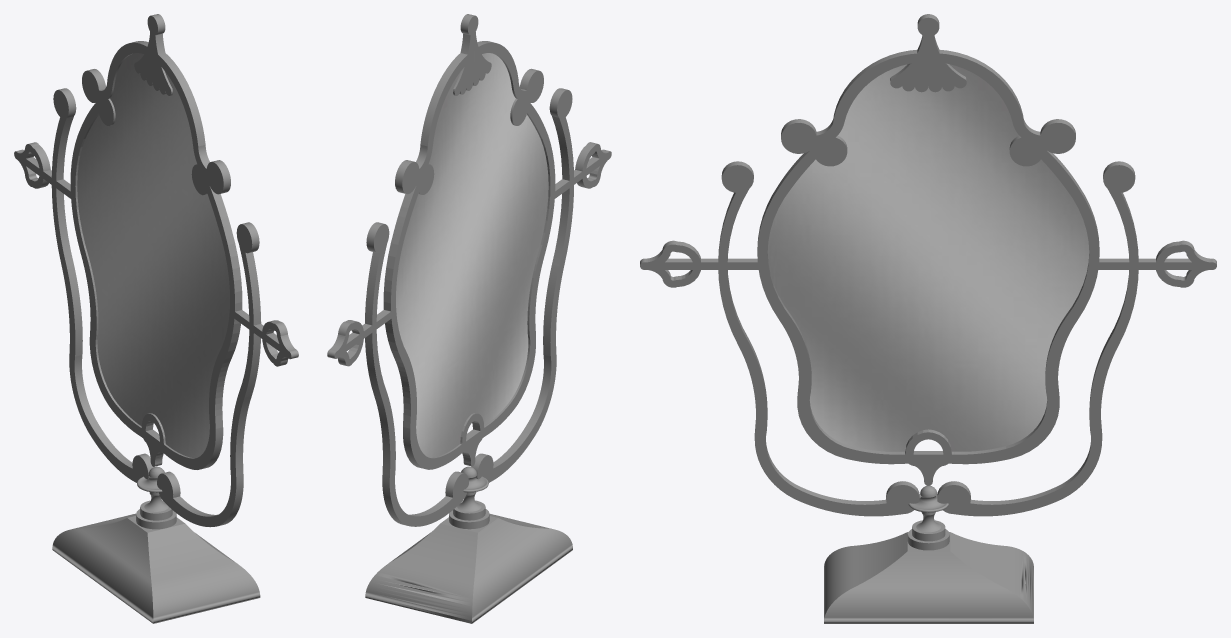
3 renders of one model, left to right at view 1: azimuth 30°, elevation 25°; view 2: azimuth 150°, elevation 25°; view 3: azimuth 270°, elevation 25°, orthographic. The views are drawn at different scales.
Visible parts, largest first — view 1: Mesh1_Group1_Group_31_1_Model; view 2: Mesh1_Group1_Group_31_1_Model; view 3: Mesh1_Group1_Group_31_1_Model.
Part boxes in pixels (x1,y1,x2,y2): Mesh1_Group1_Group_31_1_Model: (14, 14, 298, 623); Mesh1_Group1_Group_31_1_Model: (327, 14, 611, 623); Mesh1_Group1_Group_31_1_Model: (640, 14, 1216, 623).
Bounding box in the file's own units: 0.2 × 1 × 0.9.
Materials: 2 (1 with a texture image).
